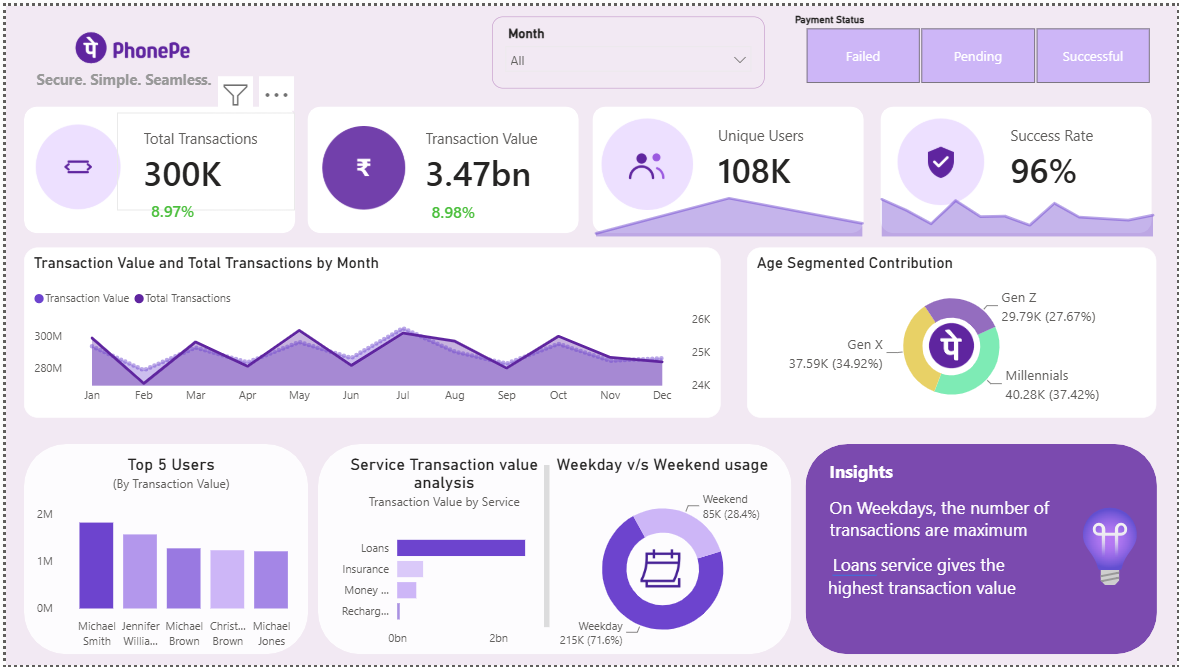

The dashboard page shown, as its layout file describes it:
{"tool":"powerbi","page":{"name":"Dashboard","canvas":[1280,720],"ordinal":0},"visuals":[{"type":"cardVisual","fields":{"Data":["Measures (2).Total Transaction Value"]},"box":[429.8,117.5,168.4,105.3],"z":0},{"type":"slicer","fields":{"Values":["All_Transactions.Payment_Status"]},"box":[849.1,3.5,424.6,87.7],"z":1000},{"type":"image","box":[0,0,277.2,91.2],"z":2000},{"type":"shape","title":"Insights","box":[873.7,478.9,384.2,229.8],"z":3000},{"type":"slicer","fields":{"Values":["Date_Table.Month"]},"box":[531.6,12.3,298.2,78.9],"z":4000},{"type":"shape","title":"Insights","box":[19.3,478.9,310.5,229.8],"z":5000},{"type":"columnChart","title":"Top 5 Users","fields":{"Category":["All_Users.Name"],"Y":["Measures (2).Total Transaction Value"]},"box":[28.1,489.5,305.3,219.3],"z":6000},{"type":"shape","title":"Insights","box":[340.4,478.9,517.5,229.8],"z":7000},{"type":"barChart","title":"Service Transaction value analysis","fields":{"Category":["All_Transactions.Service"],"Y":["Measures (2).Total Transaction Value"]},"box":[349.1,489.5,259.6,219.3],"z":8000},{"type":"donutChart","title":"Weekday v/s Weekend usage","fields":{"Category":["Date_Table.Weekend"],"Y":["Measures (2).Total Transactions"]},"box":[577.2,489.5,280.7,219.3],"z":9000},{"type":"textbox","box":[24.6,63.2,208.8,59.6],"z":10000},{"type":"image","box":[1156.1,545.6,101.8,89.5],"z":11000},{"type":"shape","box":[19.3,110.5,296.5,138.6],"z":12000},{"type":"shape","box":[329.8,110.5,296.5,138.6],"z":13000},{"type":"shape","box":[640.4,110.5,296.5,138.6],"z":14000},{"type":"shape","box":[956.1,110.5,296.5,138.6],"z":15000},{"type":"image","box":[28.1,129.8,101.8,93],"z":16000},{"type":"image","box":[956.1,122.8,131.6,94.7],"z":17000},{"type":"image","box":[626.3,122.8,149.1,100],"z":18000},{"type":"image","box":[340.4,131.6,100,91.2],"z":19000},{"type":"cardVisual","fields":{"Data":["Measures (2).Total Transactions"]},"box":[121.1,115.8,194.7,107],"z":20000},{"type":"cardVisual","fields":{"Data":["Measures (2).Total Trans MoM%"]},"box":[129.8,196.5,161.4,52.6],"z":21000},{"type":"cardVisual","fields":{"Data":["Measures (2).Total Transaction Value"]},"box":[429.8,94.7,296,150],"z":22000},{"type":"cardVisual","fields":{"Data":["Measures (2).Total Users"]},"box":[749.1,91.2,296,150],"z":23000},{"type":"cardVisual","fields":{"Data":["Measures (2).Success Rate"]},"box":[1068.4,91.2,189.5,150.9],"z":24000},{"type":"cardVisual","fields":{"Data":["Measures (2).Trans Value MOM"]},"box":[436.8,168.4,203.2,109.7],"z":25000},{"type":"donutChart","title":"Age Segmented Contribution","fields":{"Category":["All_Users.Age Segment"],"Y":["CountNonNull(All_Users.User_ID)"]},"box":[810.5,263.2,447.4,186],"z":26000},{"type":"areaChart","fields":{"Category":["Date_Table.Month"],"Y":["Measures (2).Transaction Value"],"Y2":["Measures (2).Total Transactions"]},"box":[19.3,263.2,761.4,186],"z":27000},{"type":"shape","box":[440.4,501.8,300,177.2],"z":28000},{"type":"image","box":[998.2,343.9,70.2,54.4],"z":29000},{"type":"textbox","box":[894.7,489.5,80.7,40.4],"z":30000},{"type":"textbox","box":[894.7,529.8,261.4,61.4],"z":31000},{"type":"areaChart","fields":{"Category":["Date_Table.Month"],"Y":["Measures (2).Success Rate"]},"box":[940.4,187.7,328.1,68.4],"z":32000},{"type":"areaChart","fields":{"Y":["Measures (2).Unique Users"],"Category":["All_Users.Join_Date.Variation.Date Hierarchy.Year"]},"box":[629.8,187.7,321.1,68.4],"z":33000},{"type":"image","box":[657.9,591.2,119.3,47.4],"z":34000},{"type":"textbox","box":[895.1,591.8,259,68.9],"z":34001}]}

Visuals, with their boxes in screenshot pixels (x1, y1, x2, y2), scaled from the page's 1280x720 canvas onto the 1179x667 screenshot:
cardVisual - Measures (2).Total Transaction Value: box(396, 109, 551, 206)
slicer - All_Transactions.Payment_Status: box(782, 3, 1173, 84)
image: box(0, 0, 255, 84)
"Insights" shape: box(805, 444, 1159, 657)
slicer - Date_Table.Month: box(490, 11, 764, 84)
"Insights" shape: box(18, 444, 304, 657)
"Top 5 Users" columnChart: box(26, 453, 307, 657)
"Insights" shape: box(314, 444, 790, 657)
"Service Transaction value analysis" barChart: box(322, 453, 561, 657)
"Weekday v/s Weekend usage" donutChart: box(532, 453, 790, 657)
textbox: box(23, 59, 215, 114)
image: box(1065, 505, 1159, 588)
shape: box(18, 102, 291, 231)
shape: box(304, 102, 577, 231)
shape: box(590, 102, 863, 231)
shape: box(881, 102, 1154, 231)
image: box(26, 120, 120, 206)
image: box(881, 114, 1002, 201)
image: box(577, 114, 714, 206)
image: box(314, 122, 406, 206)
cardVisual - Measures (2).Total Transactions: box(112, 107, 291, 206)
cardVisual - Measures (2).Total Trans MoM%: box(120, 182, 268, 231)
cardVisual - Measures (2).Total Transaction Value: box(396, 88, 669, 227)
cardVisual - Measures (2).Total Users: box(690, 84, 963, 223)
cardVisual - Measures (2).Success Rate: box(984, 84, 1159, 224)
cardVisual - Measures (2).Trans Value MOM: box(402, 156, 590, 258)
"Age Segmented Contribution" donutChart: box(747, 244, 1159, 416)
areaChart - Date_Table.Month x Measures (2).Transaction Value: box(18, 244, 719, 416)
shape: box(406, 465, 682, 629)
image: box(919, 319, 984, 369)
textbox: box(824, 453, 898, 491)
textbox: box(824, 491, 1065, 548)
areaChart - Date_Table.Month x Measures (2).Success Rate: box(866, 174, 1168, 237)
areaChart - Measures (2).Unique Users x All_Users.Join_Date.Variation.Date Hierarchy.Year: box(580, 174, 876, 237)
image: box(606, 548, 716, 592)
textbox: box(824, 548, 1063, 612)
